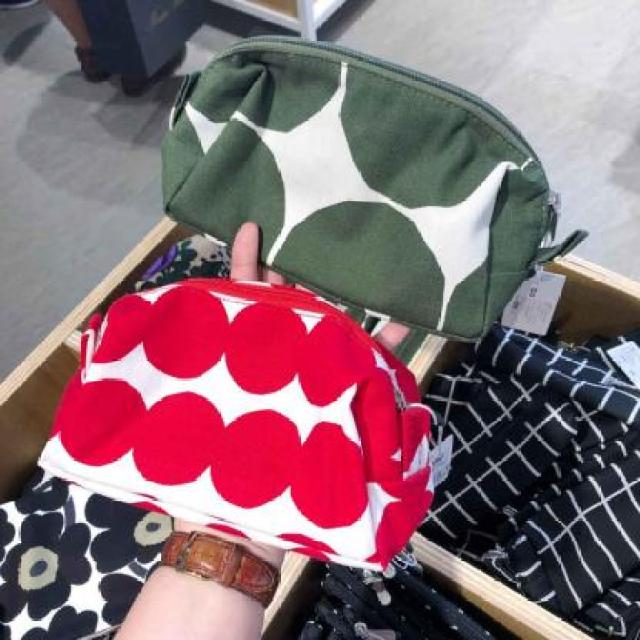Bag: (17, 235, 466, 579), (135, 19, 588, 348)
